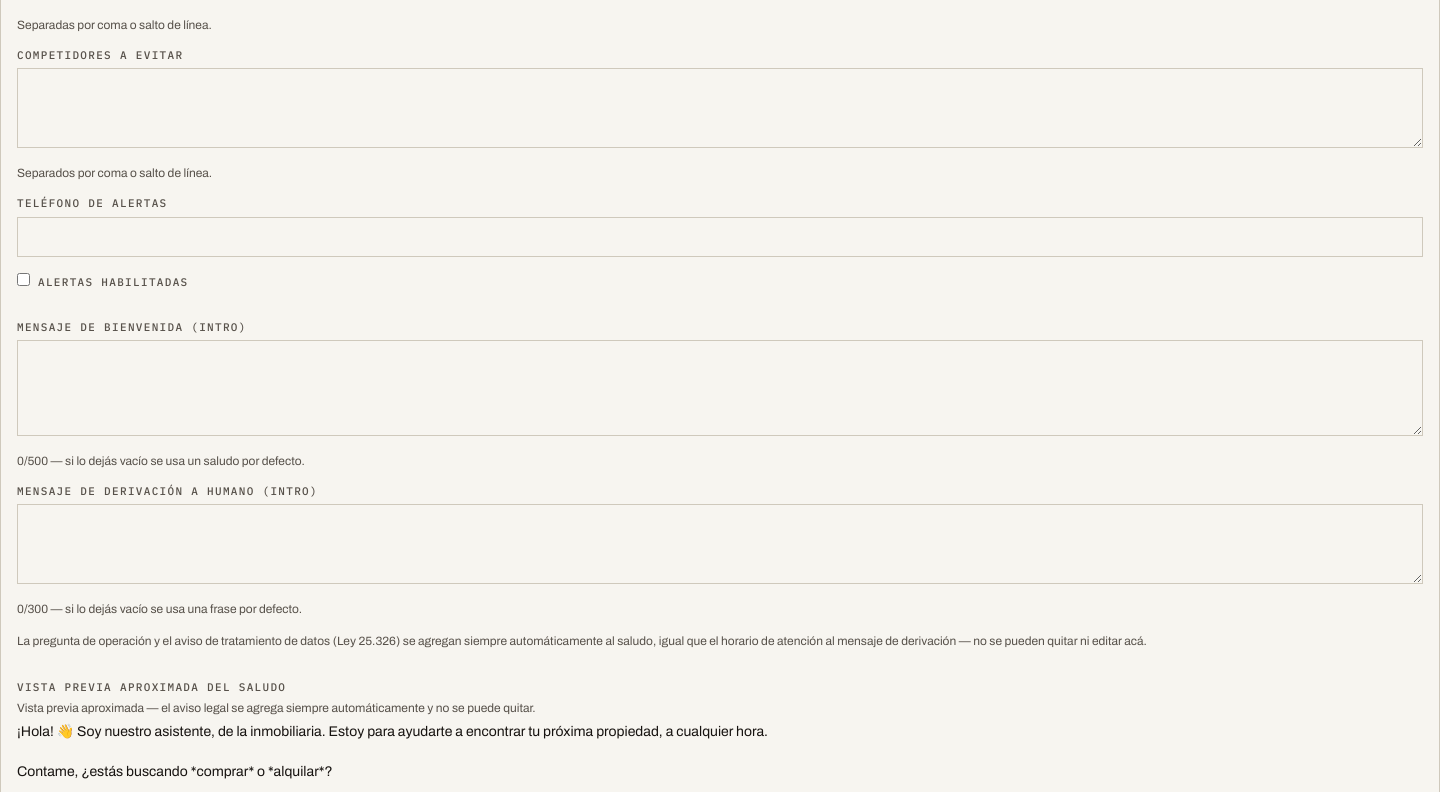
TenantConfigForm › muestra el contador de caracteres de welcomeIntro y handoffIntro
(page scrolled)
Type "Hola" into the text box labelled "Mensaje de bienvenida (intro)".
click(720, 388); type("Hola")  # box [17,340,1423,436]
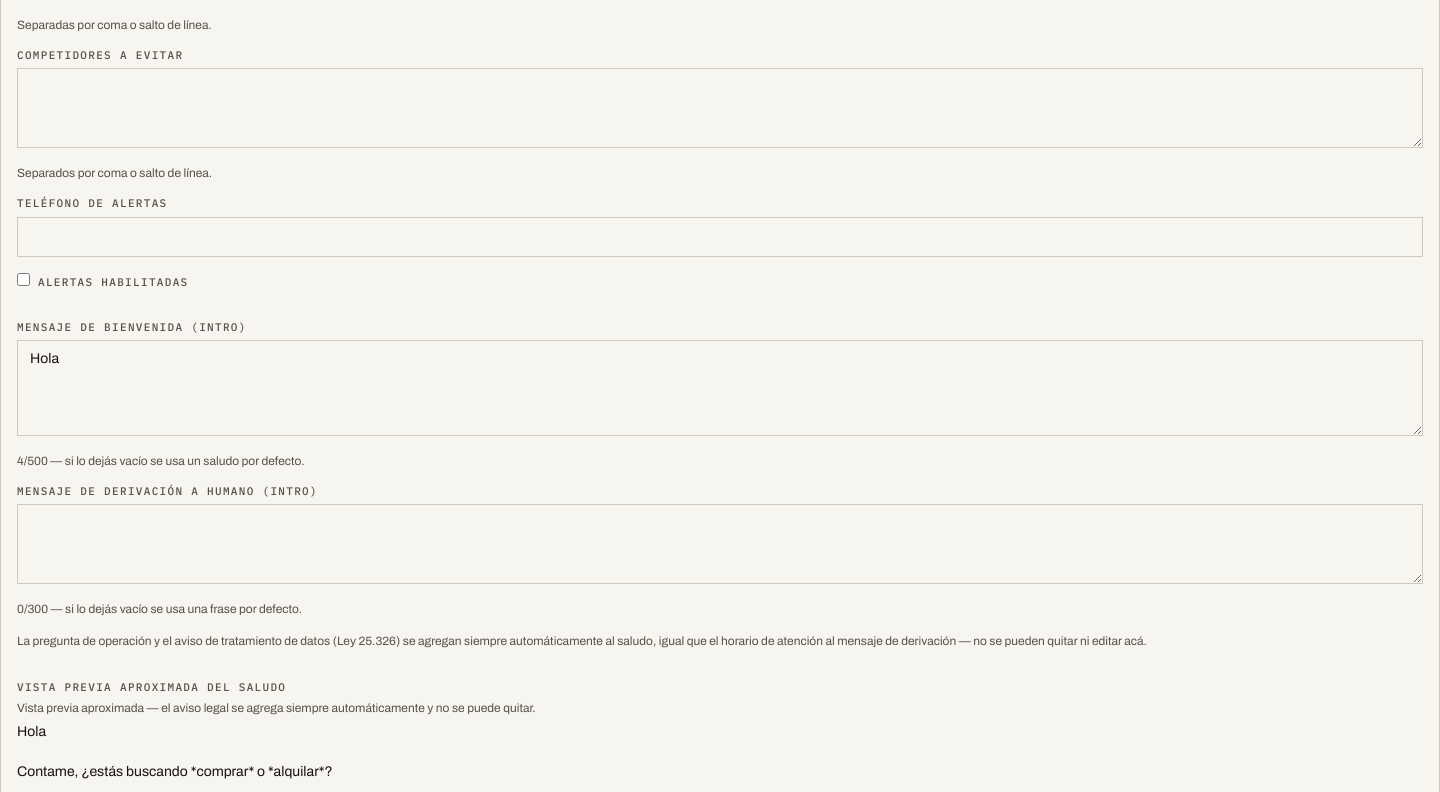
Type "Ya te derivo" into the text box labelled "Mensaje de derivación a humano (intro)".
click(720, 544); type("Ya te derivo")  # box [17,504,1423,584]
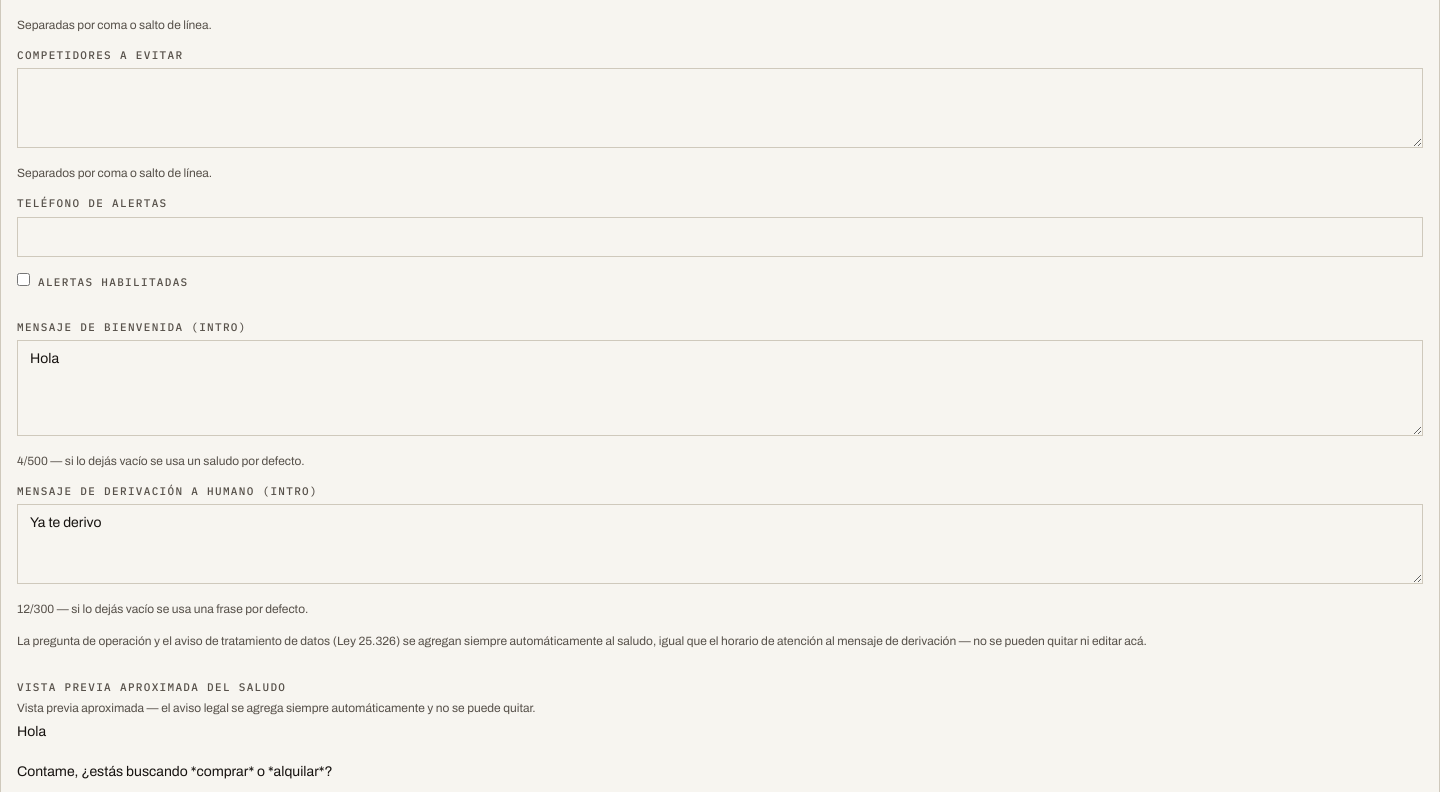
Expected: the text "4/500 — si lo dejás vacío se usa un saludo por defecto." is shown, [17,454,305,468]
Expected: the text "12/300 — si lo dejás vacío se usa una frase por defecto." is shown, [17,602,308,616]
